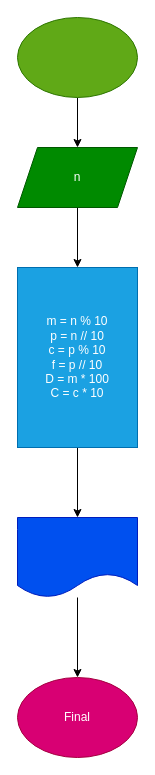
This 155x775 diagram has some shape labels left out. The shapes that lost their labels are listed below. From the top down, each one's box as (x1, y1, x2, y2) in pixels, then its label:
(16, 16, 138, 98): Inicio
(16, 516, 138, 598): D + C + f
